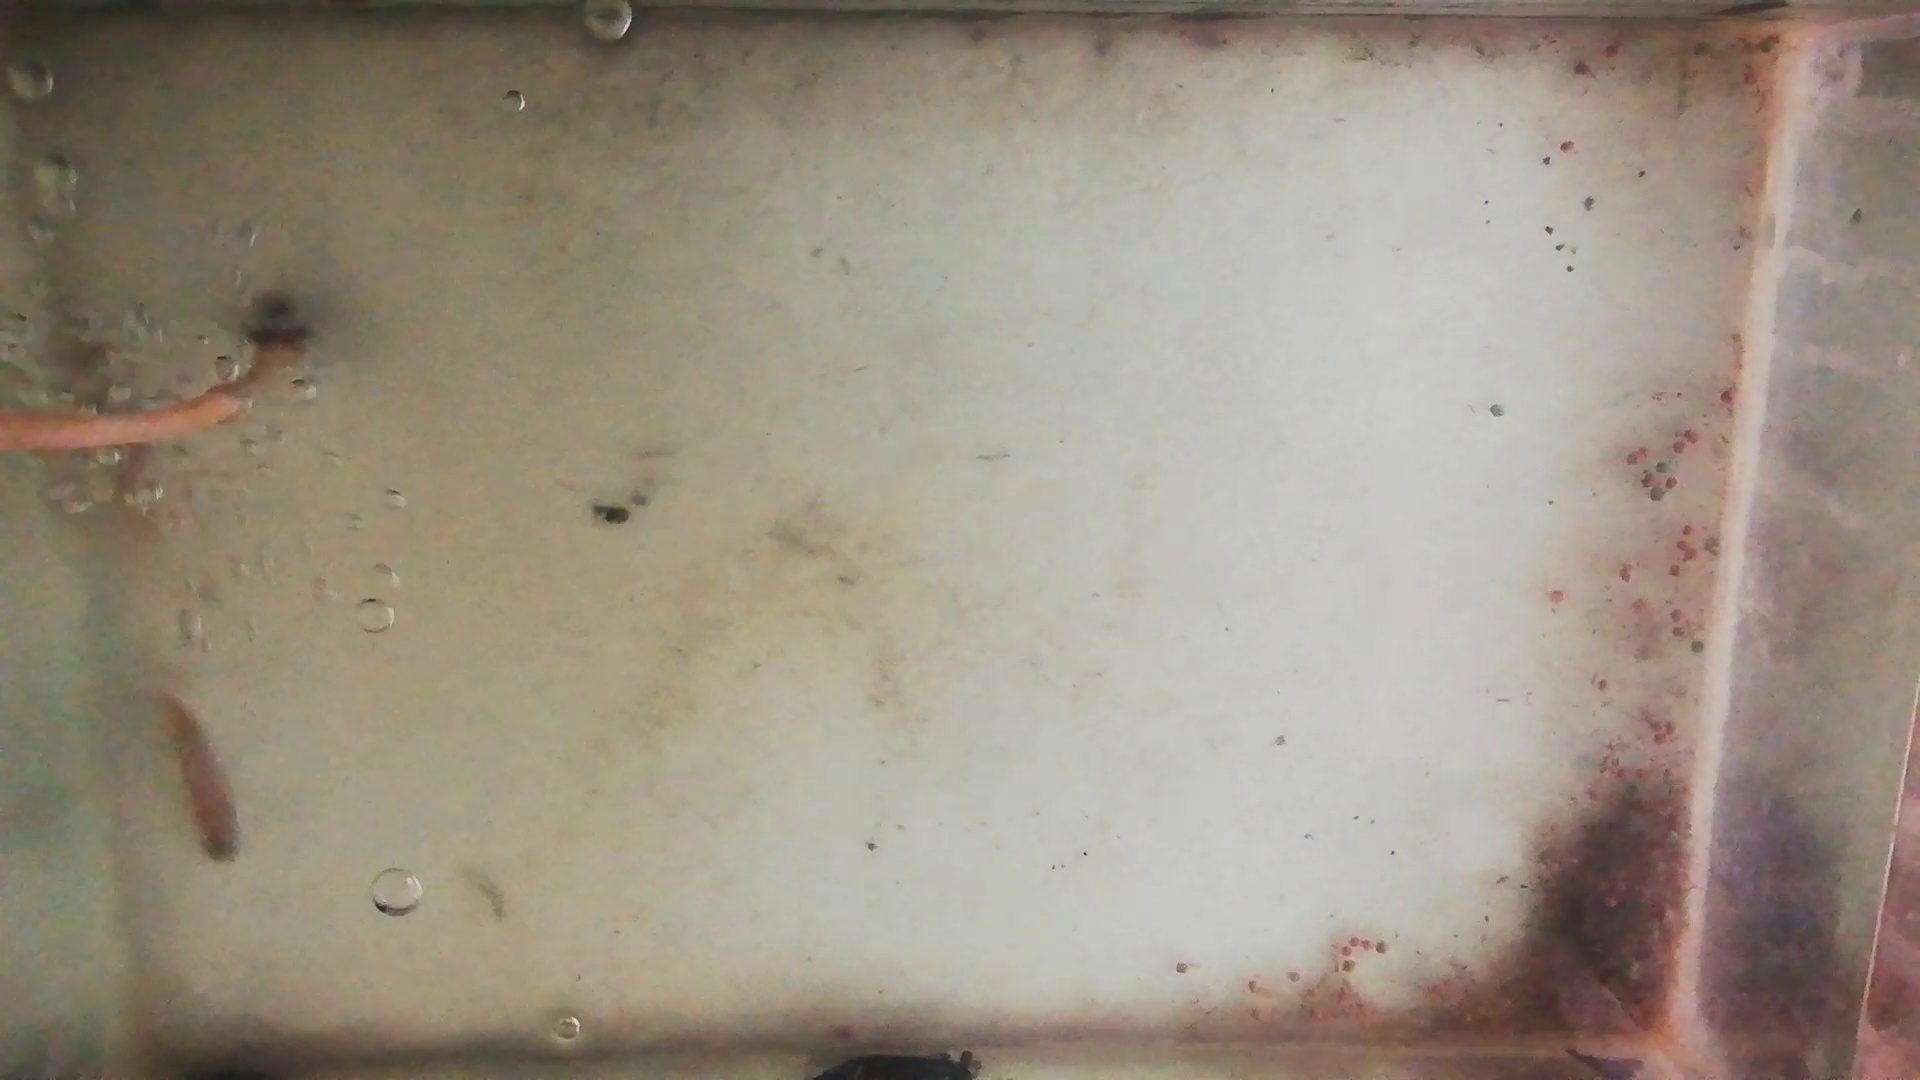fish: (61, 322, 156, 501), (150, 688, 243, 864)
